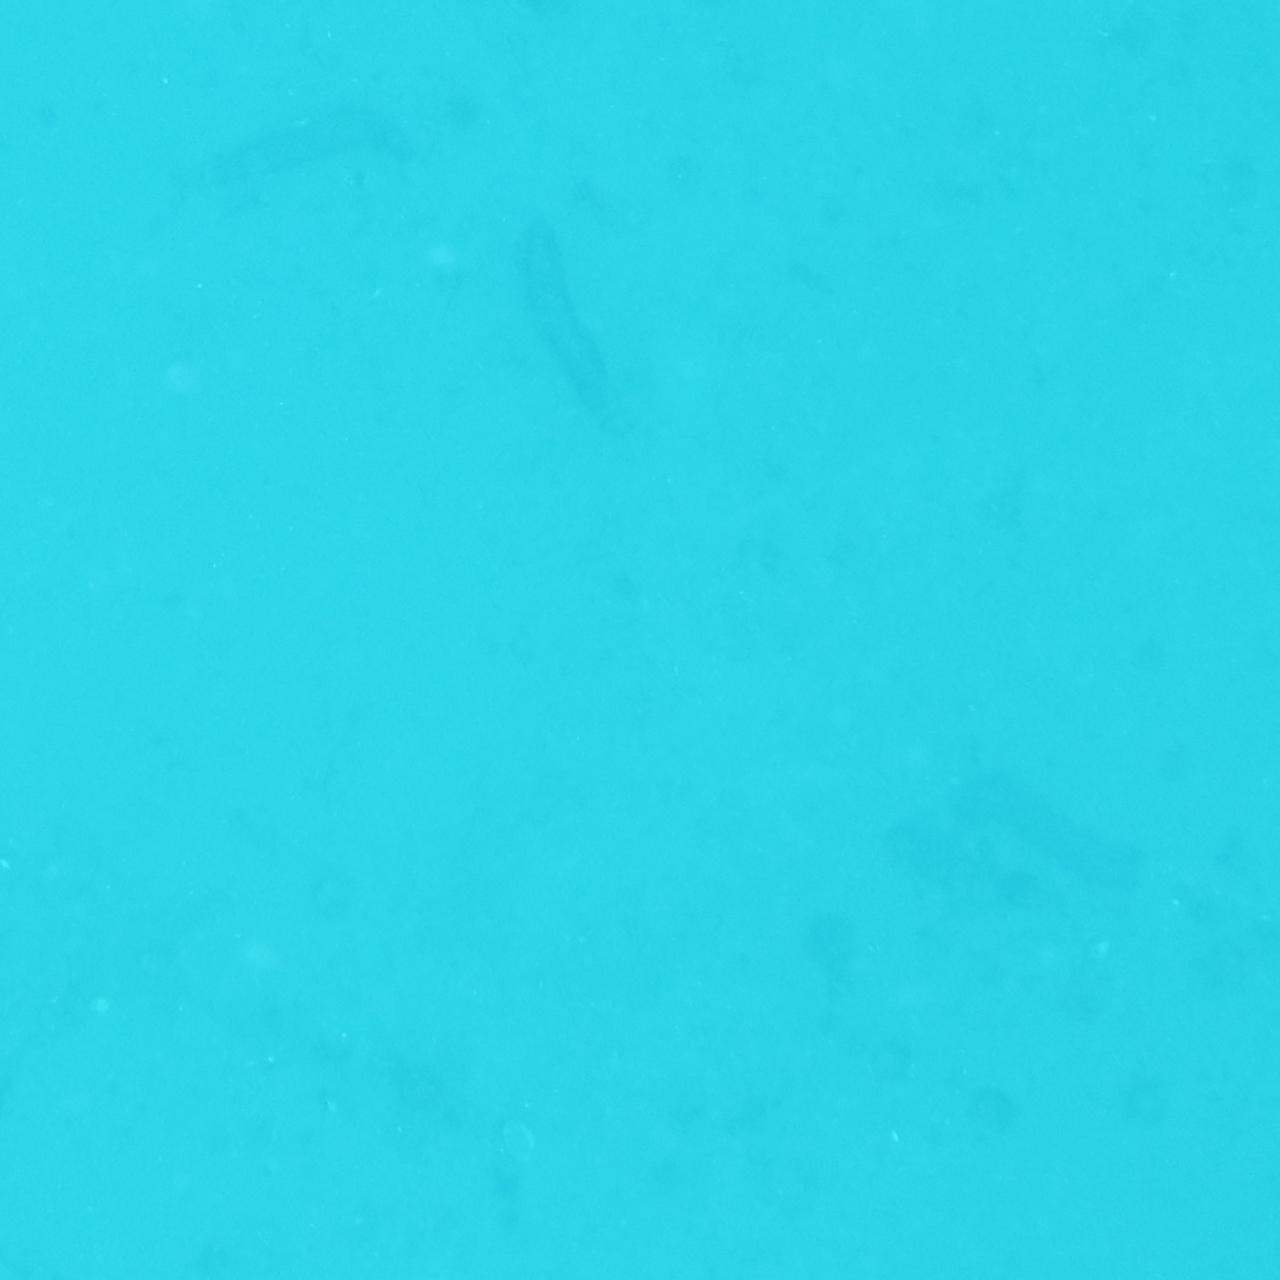Holothuria tubulosa: (948, 731, 1146, 898), (199, 101, 430, 195), (510, 218, 613, 406), (785, 1220, 1035, 1280), (157, 0, 312, 70)
